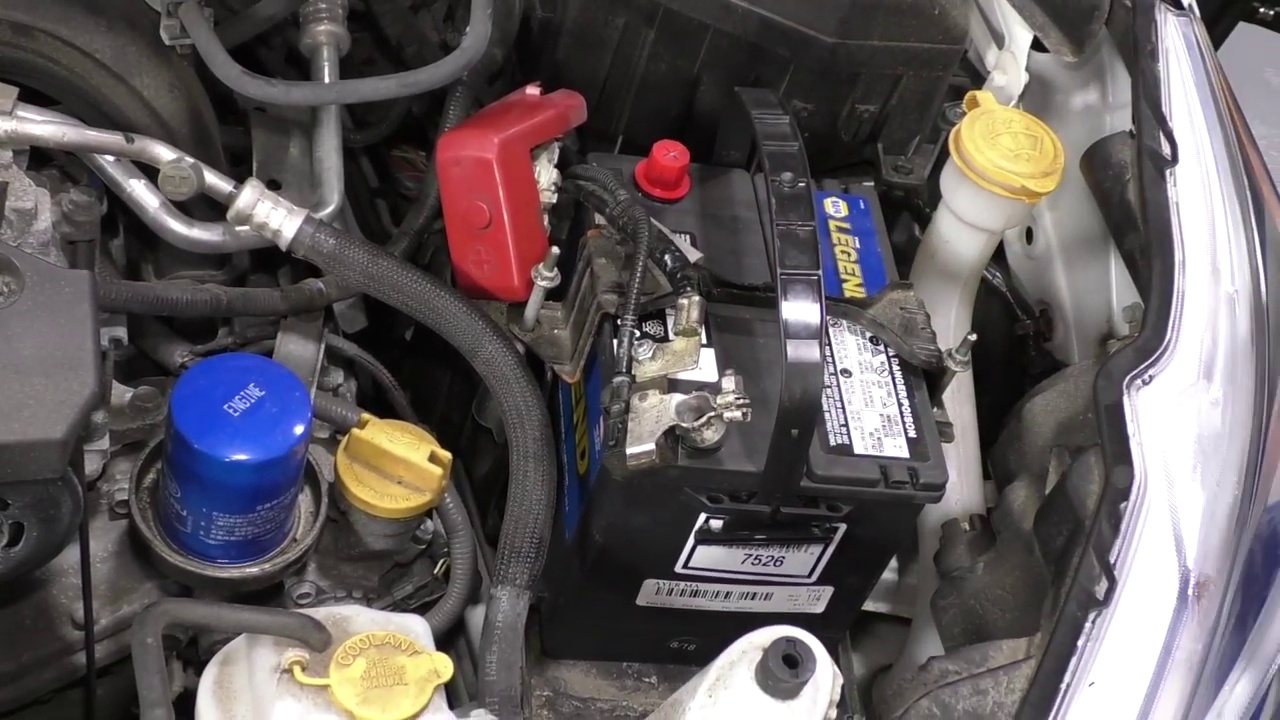battery: (576, 148, 966, 503)
pos_disconnected: (453, 90, 707, 232)
